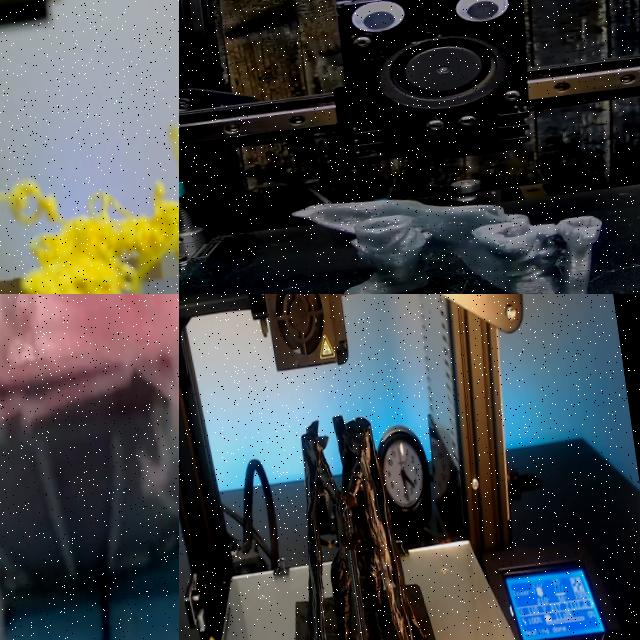spaghetti: (0, 294, 179, 640), (0, 185, 179, 294)
